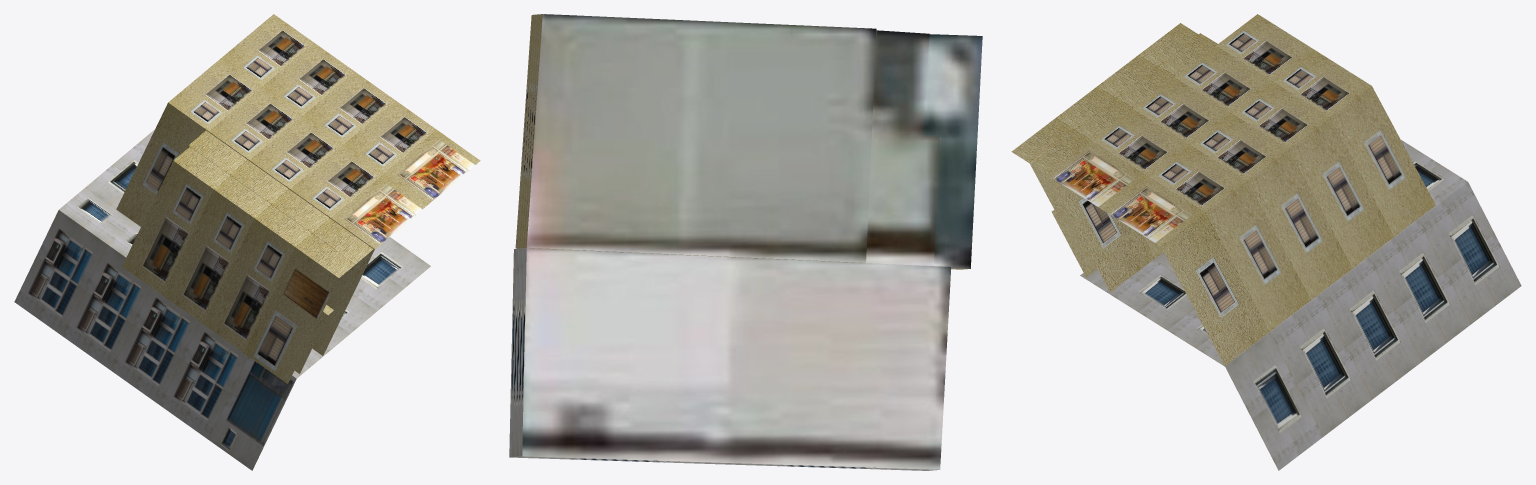
3 views of the same model, side by side, from view 1: azimuth 30°, elevation 25°; view 2: azimuth 150°, elevation 25°; view 3: azimuth 270°, elevation 25° (orthographic). The views are drawn at different scales.
Bounding box in the file's own units: 25.11 × 22.55 × 28.83.
16 materials, 16 textured.
